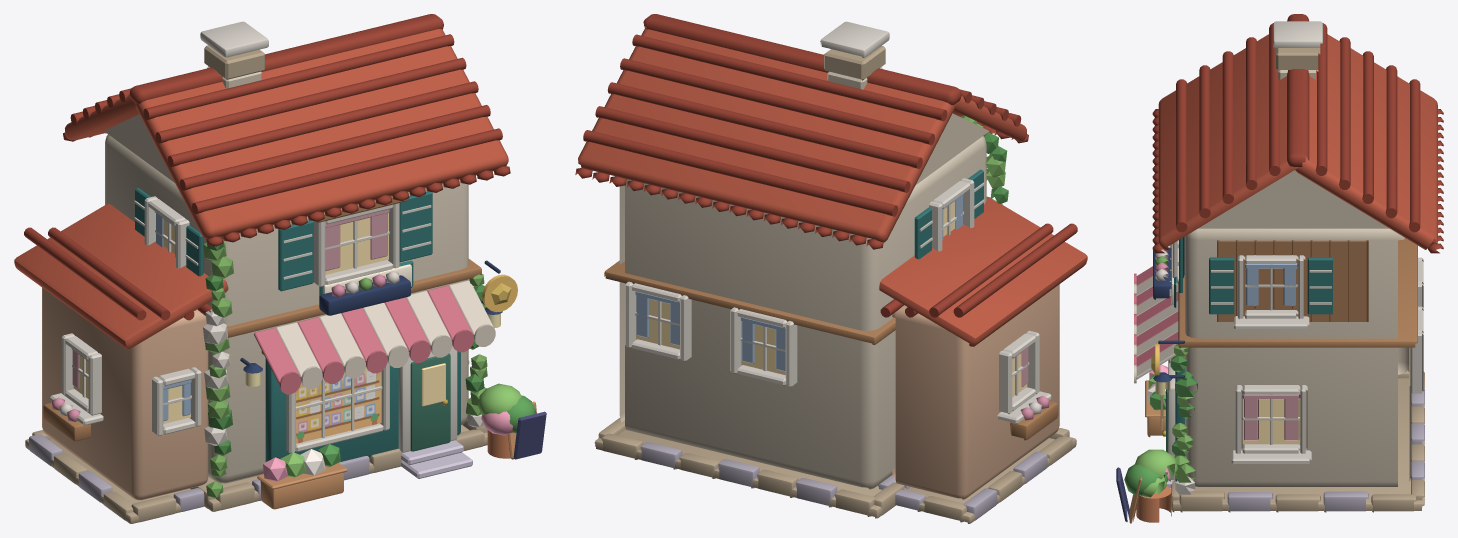
File: ac_shop_r90.glb
3 views of the same model, side by side, from view 1: azimuth 30°, elevation 25°; view 2: azimuth 150°, elevation 25°; view 3: azimuth 270°, elevation 25° (orthographic). The views are drawn at different scales.
Visible parts, largest first — view 1: body, nomask; view 2: body; view 3: body, nomask.
Boxes of the visible parts, x1,y1,x2,y2 form: body: (14, 14, 517, 523); nomask: (257, 383, 546, 509); body: (575, 14, 1087, 523); body: (1134, 14, 1443, 512); nomask: (1116, 364, 1177, 523).
Bounding box in the file's own units: 10.02 × 9.76 × 7.38.
7 materials, 1 textured.
